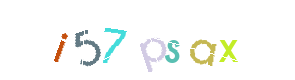5: (47, 0, 127, 80)
7: (98, 0, 178, 80)
A: (160, 0, 240, 80)
I: (20, 0, 100, 80)
P: (107, 0, 187, 80)
S: (111, 0, 191, 80)
X: (188, 0, 268, 80)
